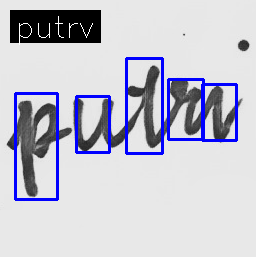i: (208, 79, 232, 145)
p: (15, 97, 61, 199)
r: (166, 76, 205, 138)
t: (124, 63, 162, 150)
u: (71, 96, 116, 153)
